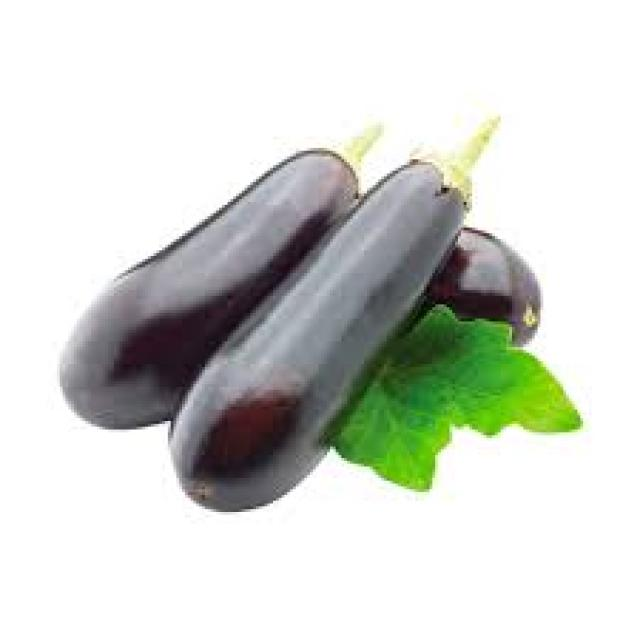eggplant: (168, 156, 466, 506), (60, 150, 344, 427)
